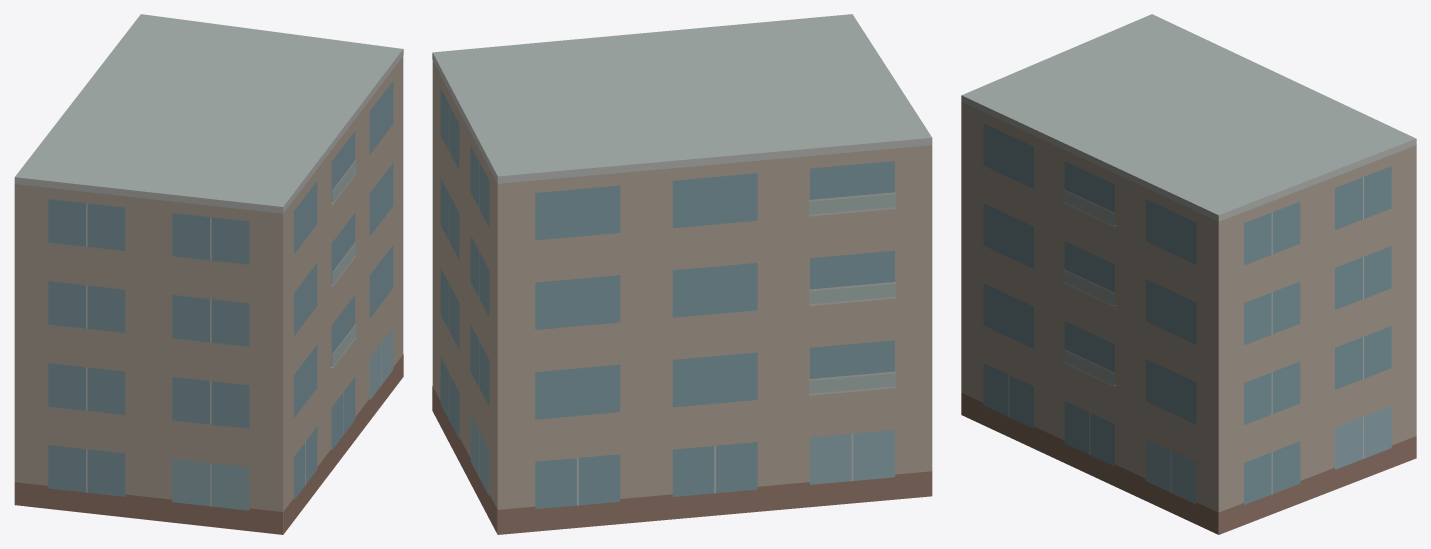
File: survey-upis-32839025.glb
3 views of the same model, side by side, from view 1: azimuth 30°, elevation 25°; view 2: azimuth 150°, elevation 25°; view 3: azimuth 270°, elevation 25° (orthographic). The views are drawn at different scales.
Parts seen in each view (by area): view 1: survey-upis-32839025.tmp; view 2: survey-upis-32839025.tmp; view 3: survey-upis-32839025.tmp.
Boxes of the visible parts, x1,y1,x2,y2 form: survey-upis-32839025.tmp: (14, 14, 403, 534); survey-upis-32839025.tmp: (432, 14, 932, 534); survey-upis-32839025.tmp: (961, 14, 1416, 534).
Size of the model in its own units: 16.08 by 11.9 by 15.36.
